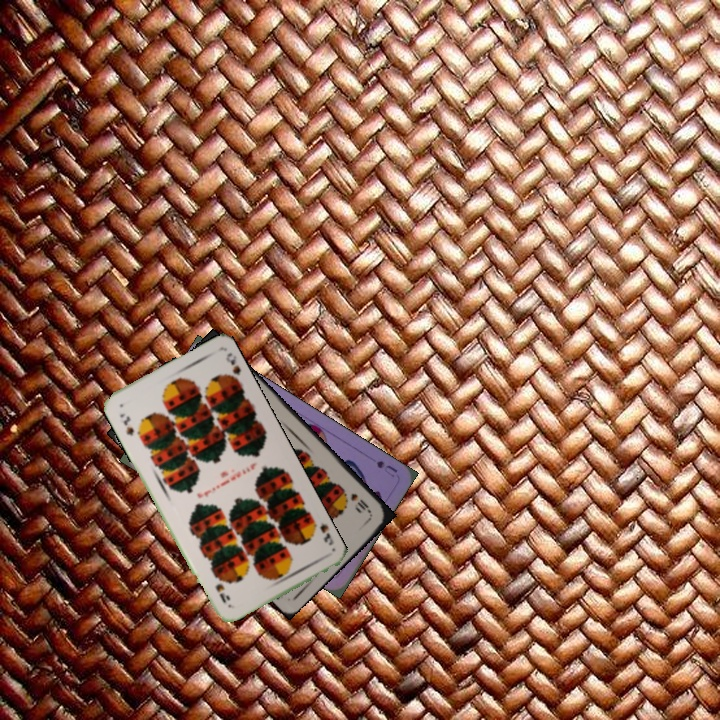S10: (347, 489, 374, 516)
S9: (306, 515, 336, 548), (116, 409, 137, 438)
SU: (372, 457, 400, 480)
